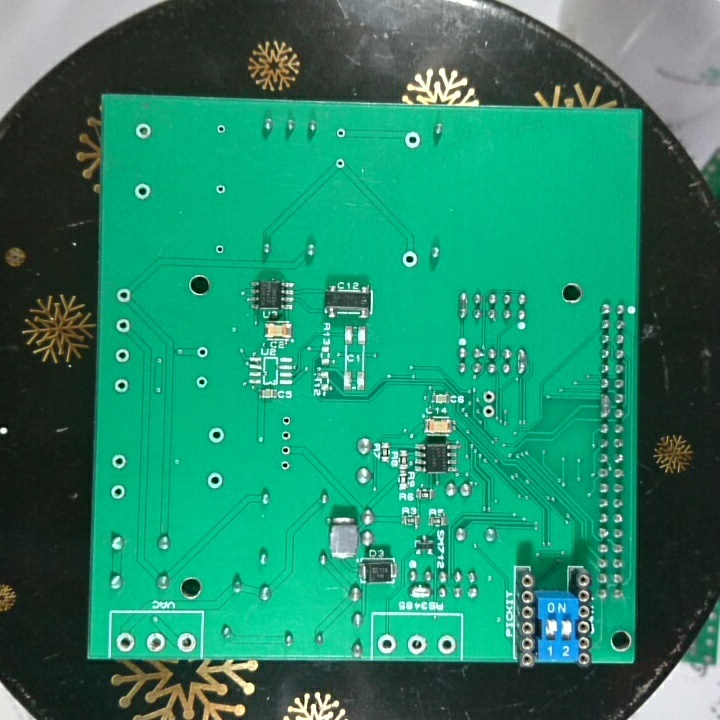F: (174, 629, 198, 656), (144, 630, 168, 655), (406, 633, 431, 656), (376, 632, 399, 656), (206, 425, 228, 448), (133, 120, 154, 144), (131, 181, 154, 202), (402, 128, 422, 152), (437, 634, 457, 658), (114, 633, 138, 652), (113, 315, 133, 337), (111, 375, 131, 397), (110, 452, 130, 474), (114, 286, 135, 306), (399, 249, 419, 269), (205, 470, 224, 491), (211, 178, 228, 200), (108, 482, 126, 502), (112, 347, 131, 365), (194, 373, 211, 389), (480, 403, 497, 419), (195, 343, 210, 361), (481, 389, 497, 405), (212, 240, 226, 258), (333, 156, 348, 172), (214, 122, 229, 138), (278, 428, 294, 443), (277, 443, 293, 458), (279, 413, 293, 428), (334, 126, 347, 142), (277, 458, 291, 472)
P: (598, 390, 612, 423), (406, 583, 433, 600), (515, 346, 528, 377), (457, 289, 468, 322)
